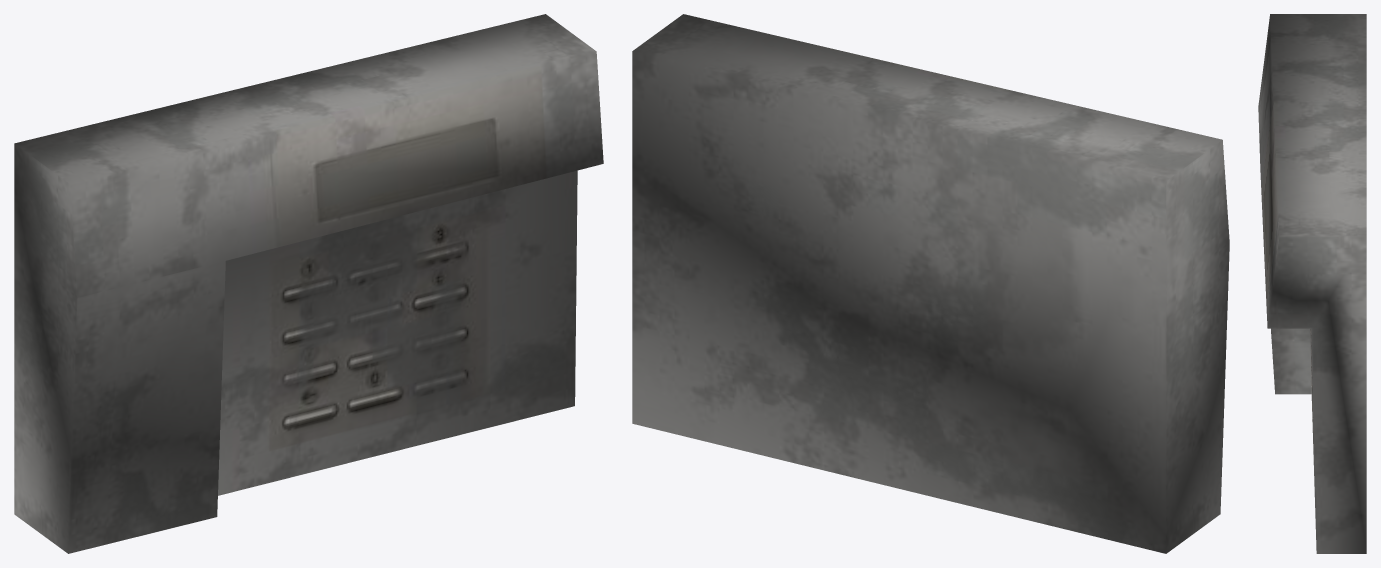
Rendered from keypad.glb.
The picture shows the model from 3 angles, left to right: view 1: azimuth 30°, elevation 25°; view 2: azimuth 150°, elevation 25°; view 3: azimuth 270°, elevation 25°; orthographic projection. The views are drawn at different scales.
Parts seen in each view (by area): view 1: keypad; view 2: keypad; view 3: keypad.
Part boxes in pixels (left/top/right/bottom): keypad: left=14, top=14, right=603, bottom=553; keypad: left=632, top=14, right=1229, bottom=553; keypad: left=1258, top=14, right=1366, bottom=553.
Size of the model in its own units: 0.15 by 0.1001 by 0.0309.
Materials: 1 (1 with a texture image).
